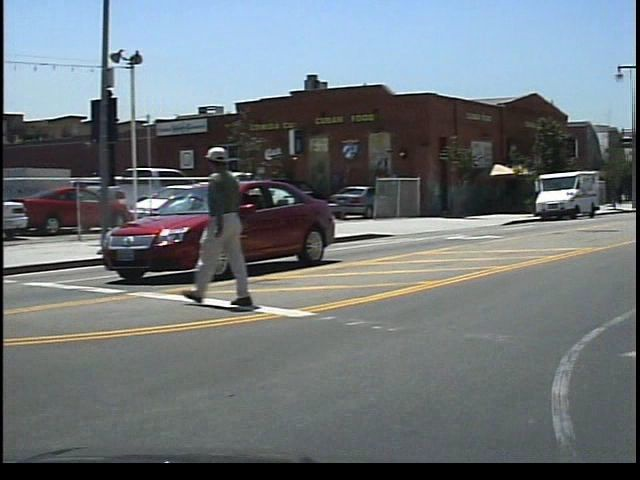person: (196, 143, 277, 312)
